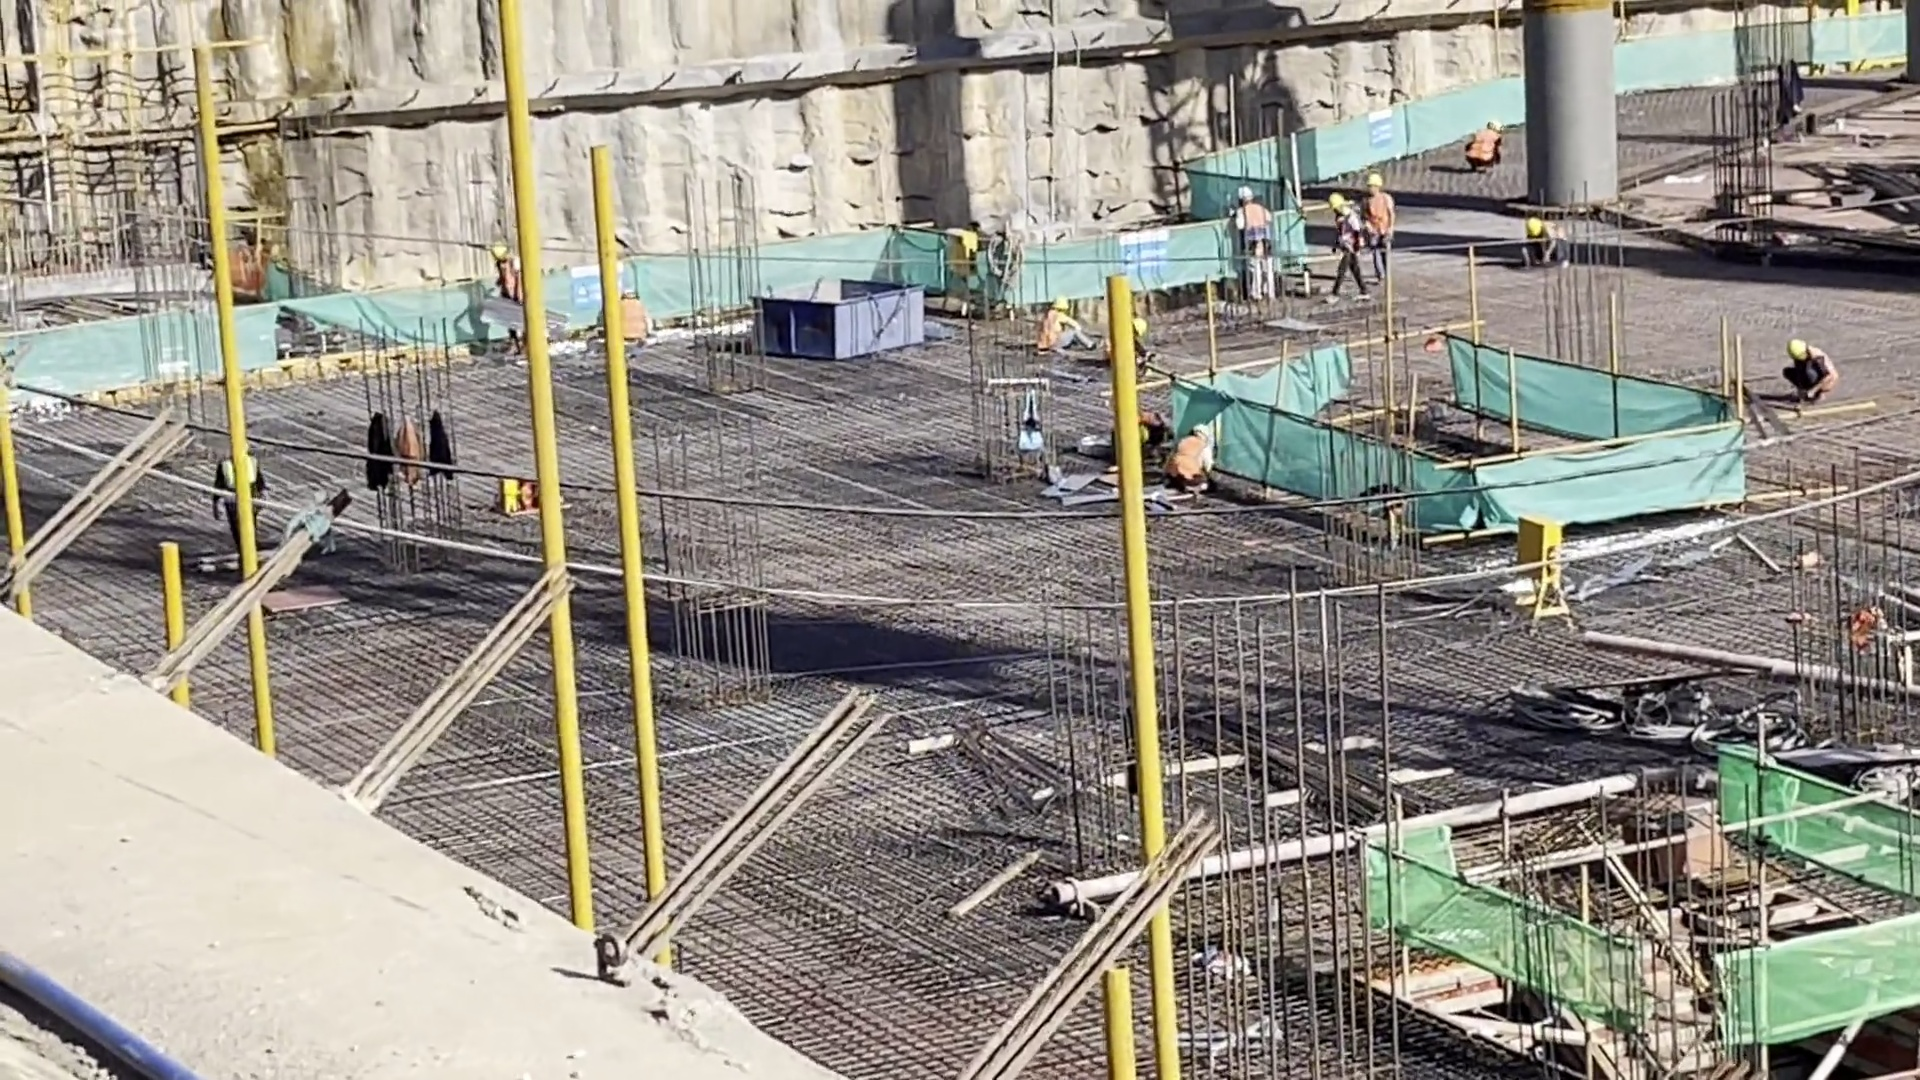ebox: (1520, 520, 1565, 599), (946, 229, 978, 273)
helmet: (1786, 339, 1807, 360), (1131, 317, 1147, 336), (1189, 422, 1210, 437), (1526, 217, 1540, 236), (1330, 193, 1345, 210), (1053, 294, 1070, 309), (1366, 175, 1383, 187), (1238, 187, 1252, 199)
hopper: (756, 280, 924, 357)
person: (1227, 187, 1274, 295), (1327, 194, 1363, 300), (1167, 422, 1216, 496), (491, 247, 523, 353), (1782, 339, 1836, 403), (1362, 175, 1393, 287), (1039, 297, 1092, 358), (1524, 220, 1579, 268), (1465, 115, 1505, 172)
slogan: (1117, 234, 1173, 272), (570, 268, 604, 308), (1369, 112, 1394, 149)
vest: (1169, 435, 1208, 479), (1236, 196, 1267, 249), (1469, 127, 1502, 162), (1369, 195, 1390, 242), (1032, 315, 1063, 345), (492, 261, 516, 297)
